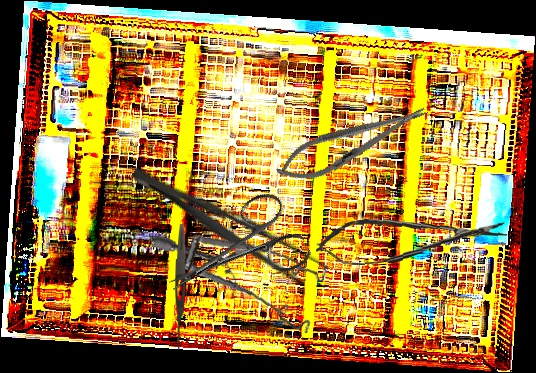Dressing Forceps: (124, 156, 333, 294), (173, 223, 188, 352)
Iris Scissors: (152, 186, 315, 324)
Micro Scissor: (314, 212, 510, 267)
Needle Holder: (270, 93, 434, 193)
Speculum: (150, 215, 335, 351)
